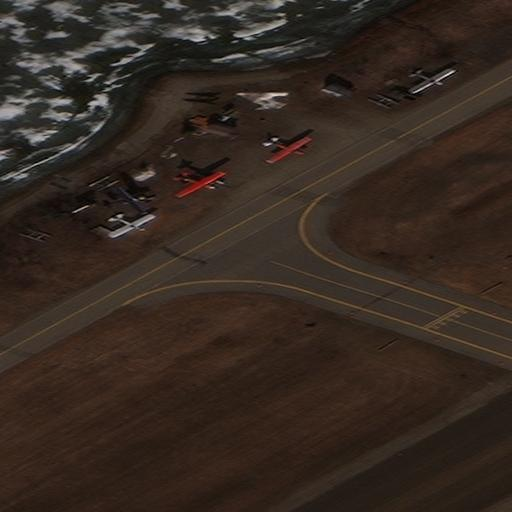Small Civil Transport: (177, 172, 226, 198), (265, 138, 312, 163), (411, 70, 457, 94), (110, 215, 156, 238)
